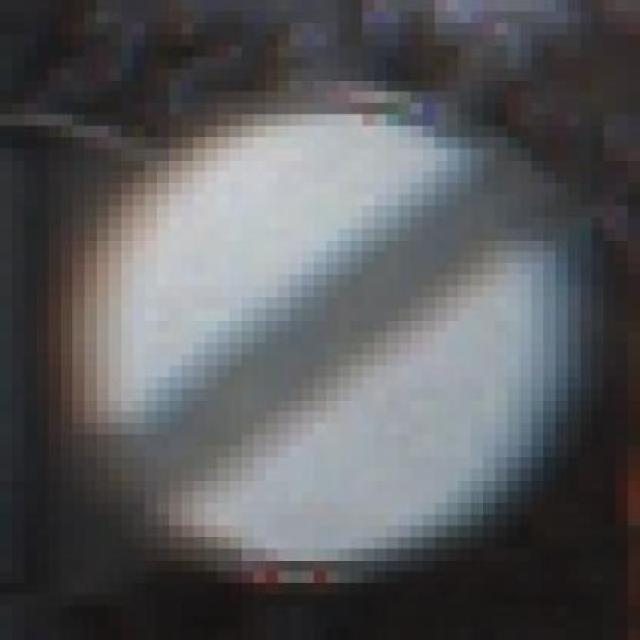End of all speed and passing limits: (72, 79, 580, 572)
